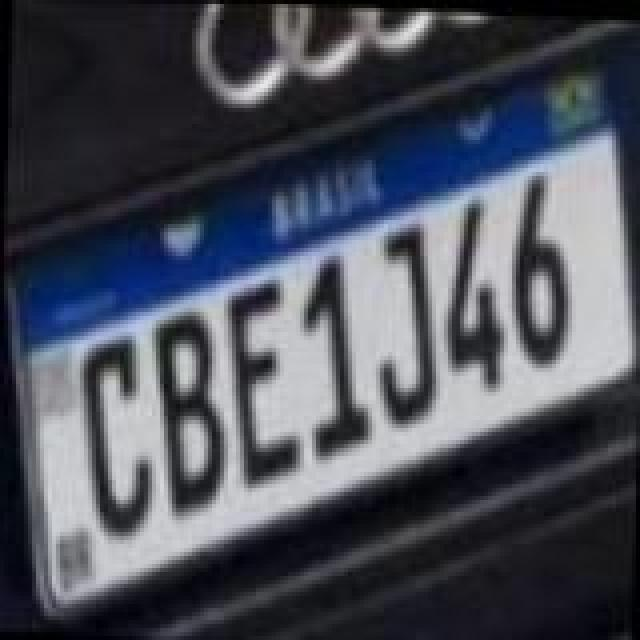1: (294, 248, 374, 464)
4: (438, 190, 510, 394)
6: (504, 166, 572, 366)
B: (144, 310, 232, 518)
C: (72, 330, 160, 538)
E: (216, 270, 308, 494)
J: (370, 210, 446, 430)
